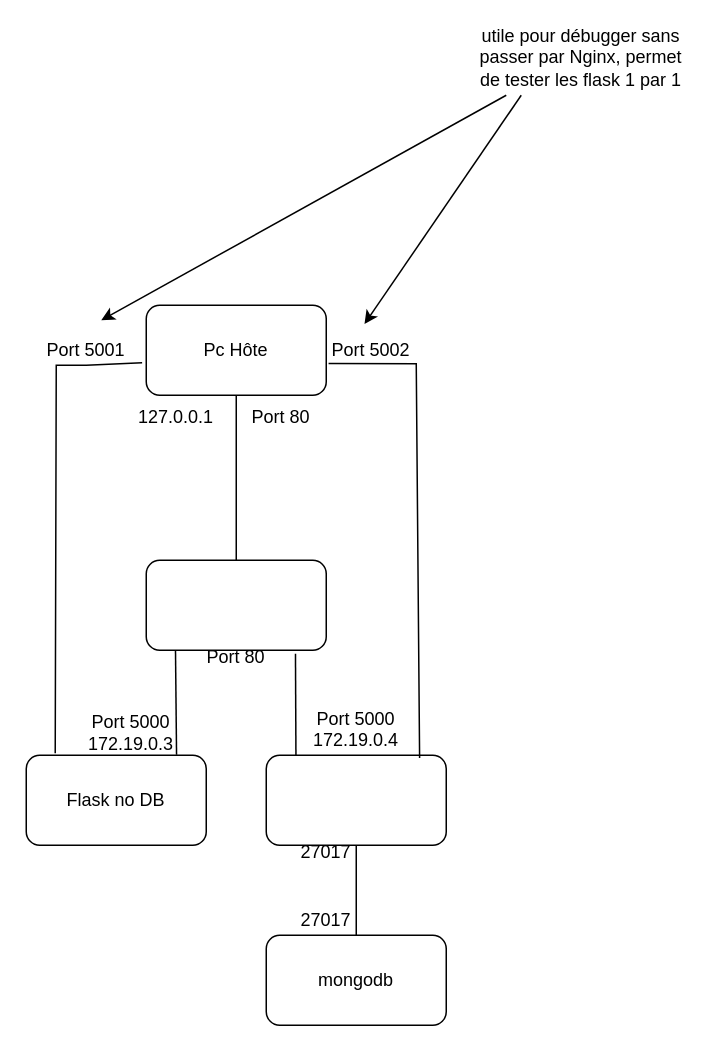
Some shapes in this 713 by 1052 pixel diagram are drawn without their labels. Each missing label, with the centre of its shape:
Flask with DB: [355,799]
Nginx: [235,604]
